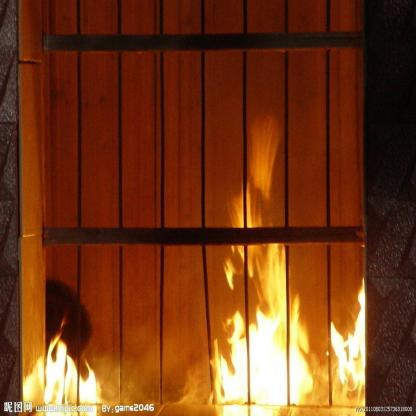fire: (218, 111, 313, 414), (325, 267, 366, 399), (45, 327, 100, 407)
